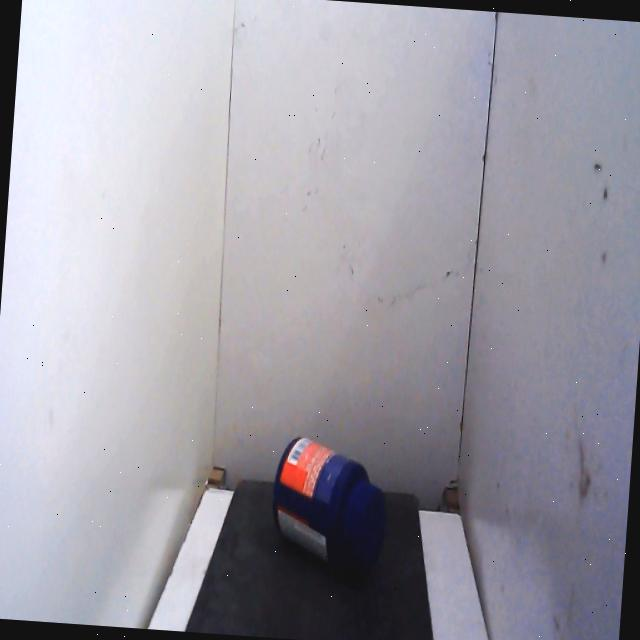plastico: (260, 408, 403, 596)
